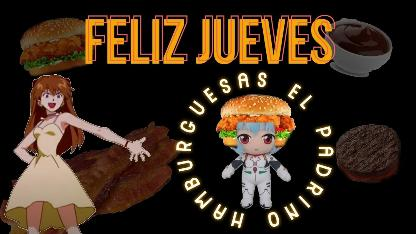rei-plush: (209, 111, 300, 211)
